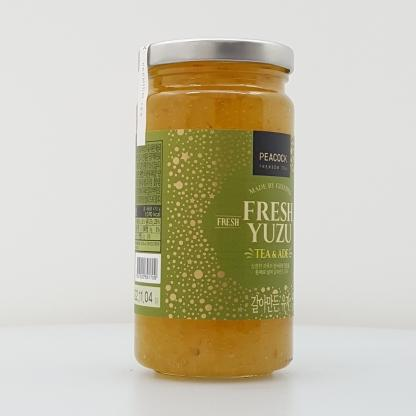------------420G: (134, 37, 294, 379)
